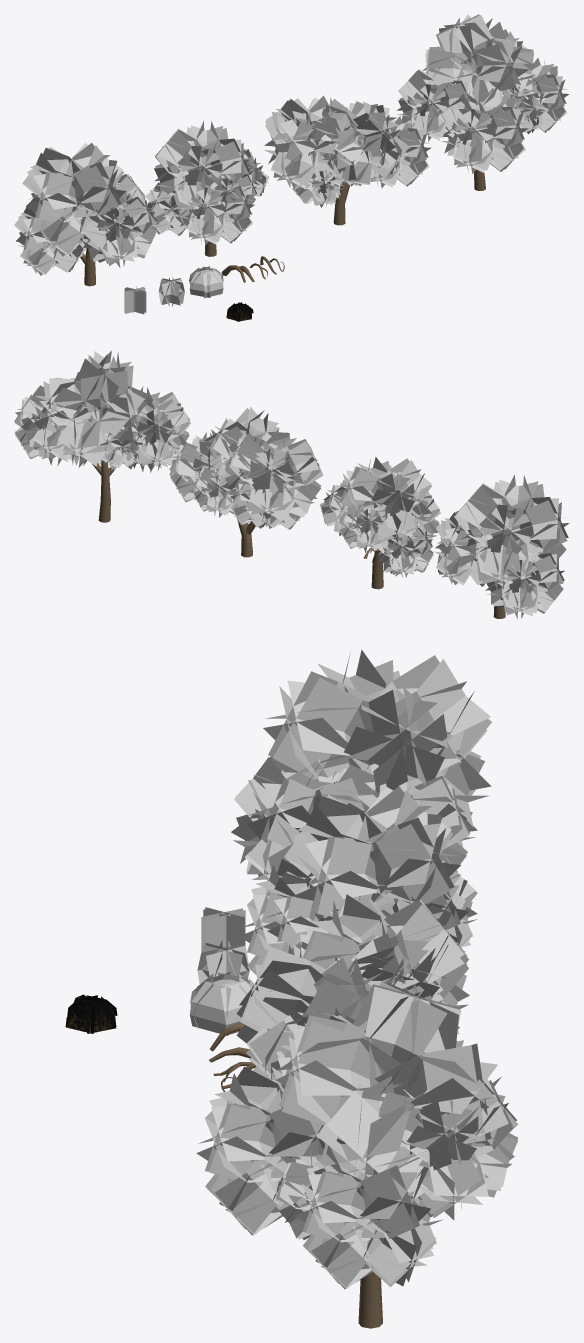
The model's file is Trees.fbx.
3 views of the same model, one above another, from view 1: azimuth 30°, elevation 25°; view 2: azimuth 150°, elevation 25°; view 3: azimuth 270°, elevation 25° (orthographic). The views are drawn at different scales.
Visible parts, largest first — view 1: tree_4.001, tree_1.001, tree_3.001, tree_2.001, bushe, Leaf_base, Leaf_base.001, tree_3, bushe.003; view 2: tree_4.001, tree_1.001, tree_3.001, tree_2.001, tree_4, tree_3, tree_2; view 3: tree_4.001, tree_1.001, tree_2.001, tree_3.001, bushe, bushe.003, Leaf_base.001, Leaf_base, tree_4.
Part boxes in pixels (x1,y1,x2,y2): tree_4.001: (397, 14, 569, 173); tree_1.001: (14, 143, 157, 275); tree_3.001: (264, 95, 431, 207); tree_2.001: (146, 121, 268, 245); bushe: (189, 266, 223, 298); Leaf_base: (158, 277, 184, 306); Leaf_base.001: (124, 286, 146, 314); tree_3: (333, 183, 349, 225); bushe.003: (226, 302, 253, 321); tree_4.001: (14, 350, 190, 472); tree_1.001: (434, 475, 569, 618); tree_3.001: (169, 407, 322, 529); tree_2.001: (319, 457, 440, 577); tree_4: (92, 407, 115, 522); tree_3: (237, 521, 255, 557); tree_2: (371, 549, 411, 589); tree_4.001: (196, 982, 518, 1289); tree_1.001: (231, 650, 491, 880); tree_2.001: (239, 786, 477, 975); tree_3.001: (236, 894, 469, 1087); bushe: (189, 972, 251, 1035); bushe.003: (65, 994, 117, 1033); Leaf_base.001: (201, 907, 245, 952); Leaf_base: (197, 940, 249, 984); tree_4: (358, 1272, 382, 1328).
Bounding box in the file's own units: 2362 × 708 × 860.
